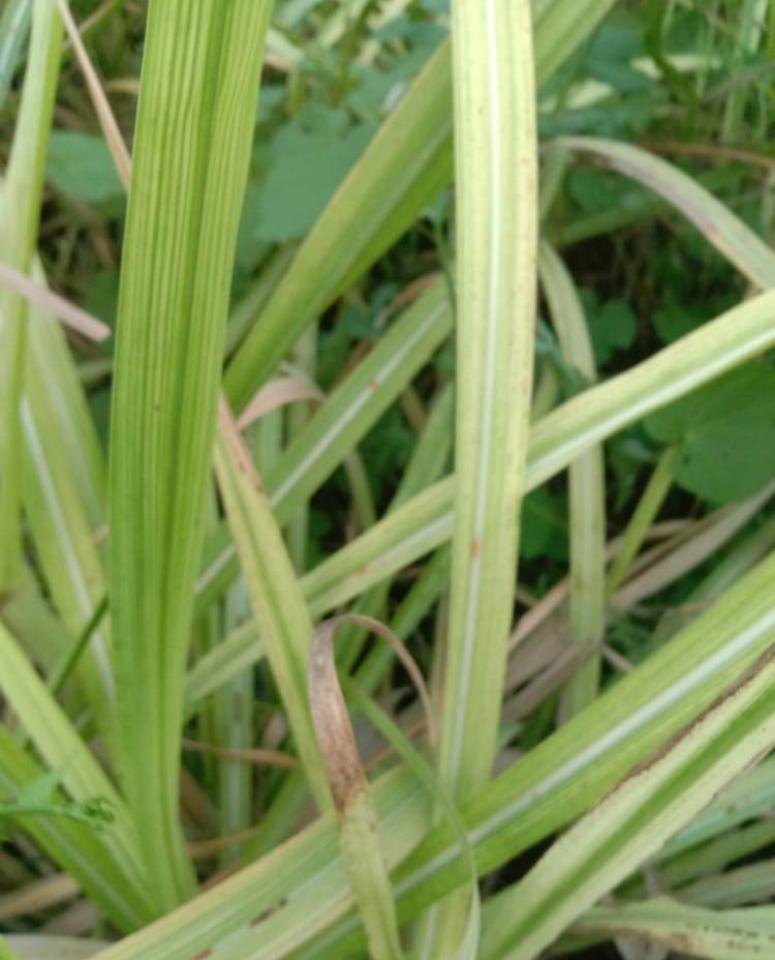Healthy: (107, 0, 273, 918)
RedRot: (190, 896, 292, 959), (470, 536, 482, 562), (368, 378, 379, 390)
